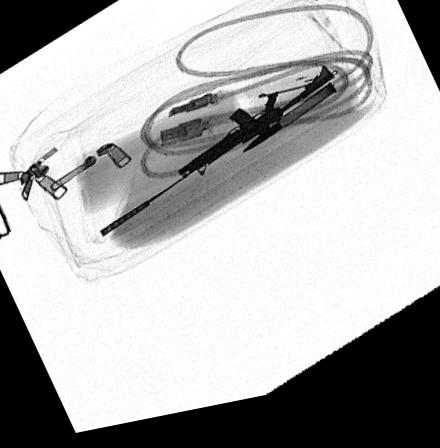Bullet: (242, 96, 338, 161)
Gun: (102, 77, 336, 242)
